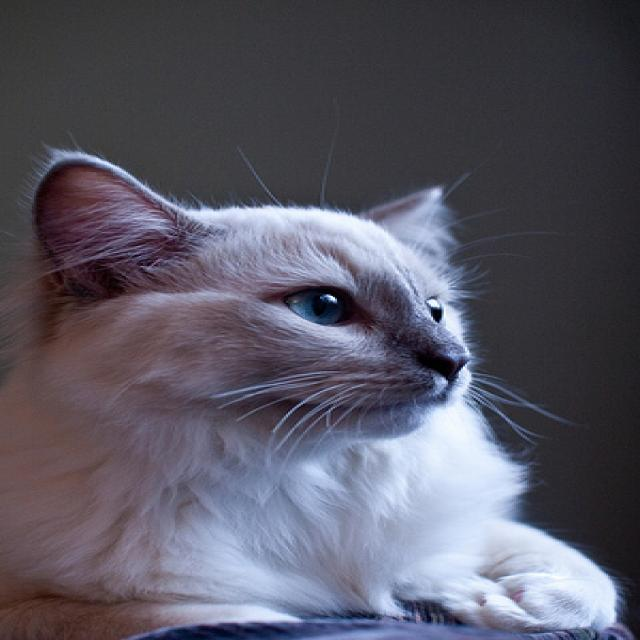Ragdoll: (0, 138, 621, 640)
